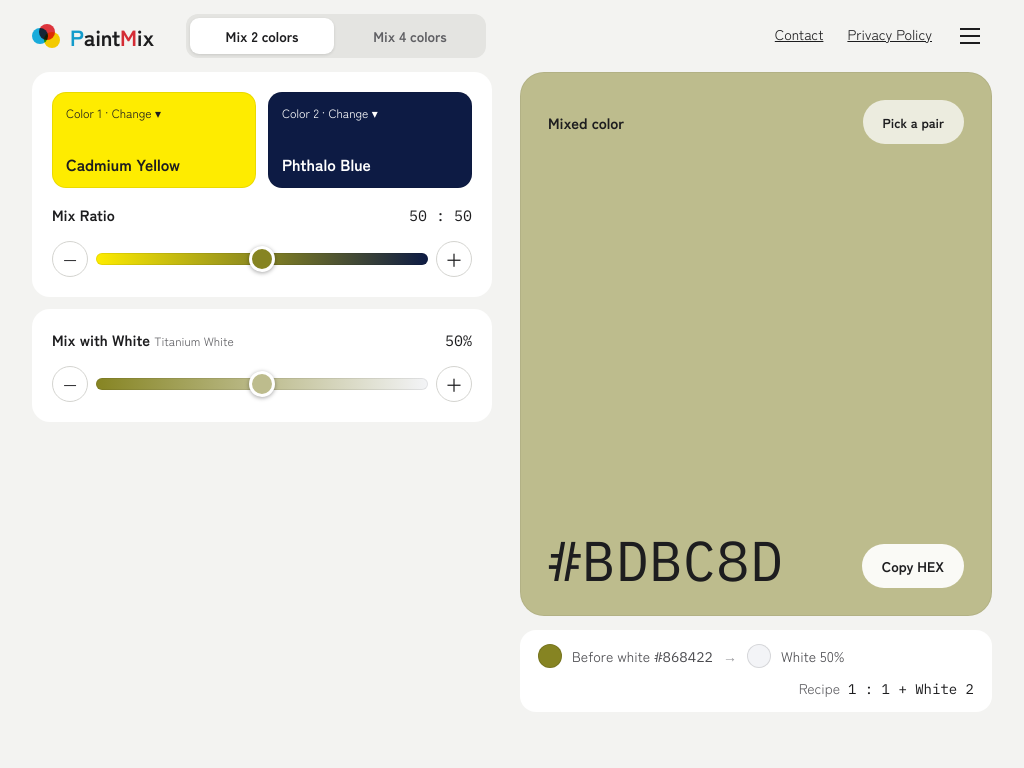
dialogs and menus › closes dialogs with Escape and returns focus to the opener
The image size is (1024, 768).
Click the button with aria-label "Select Color 1:".
click(154, 140)  # box [52,92,256,188]
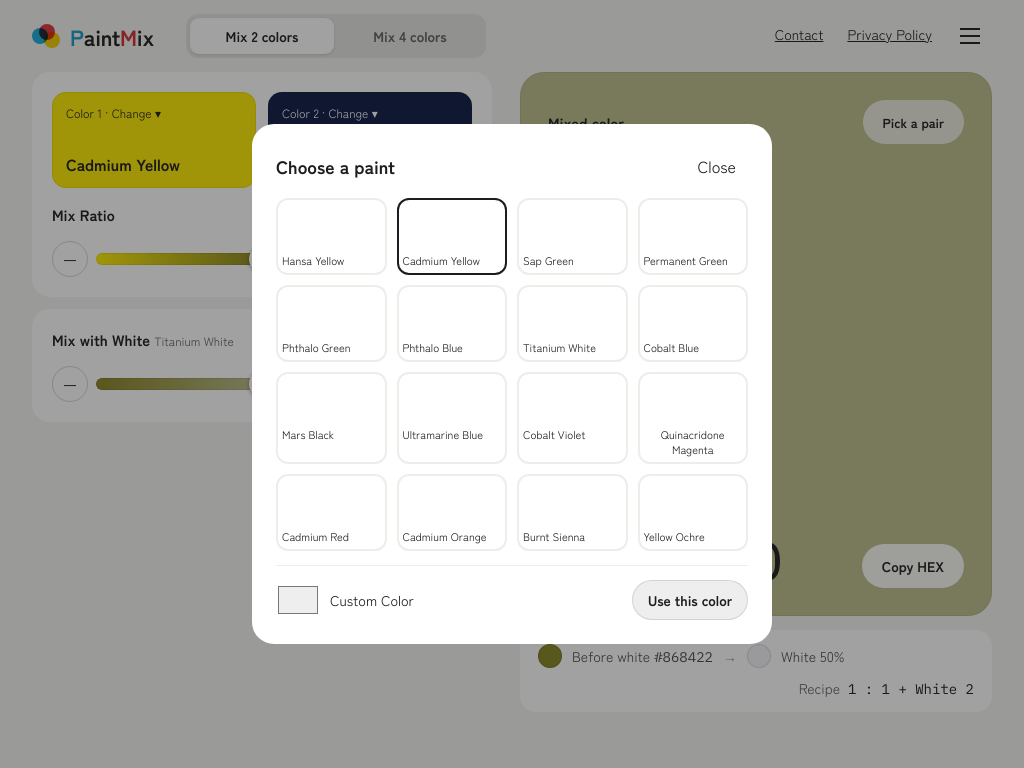
Press Escape
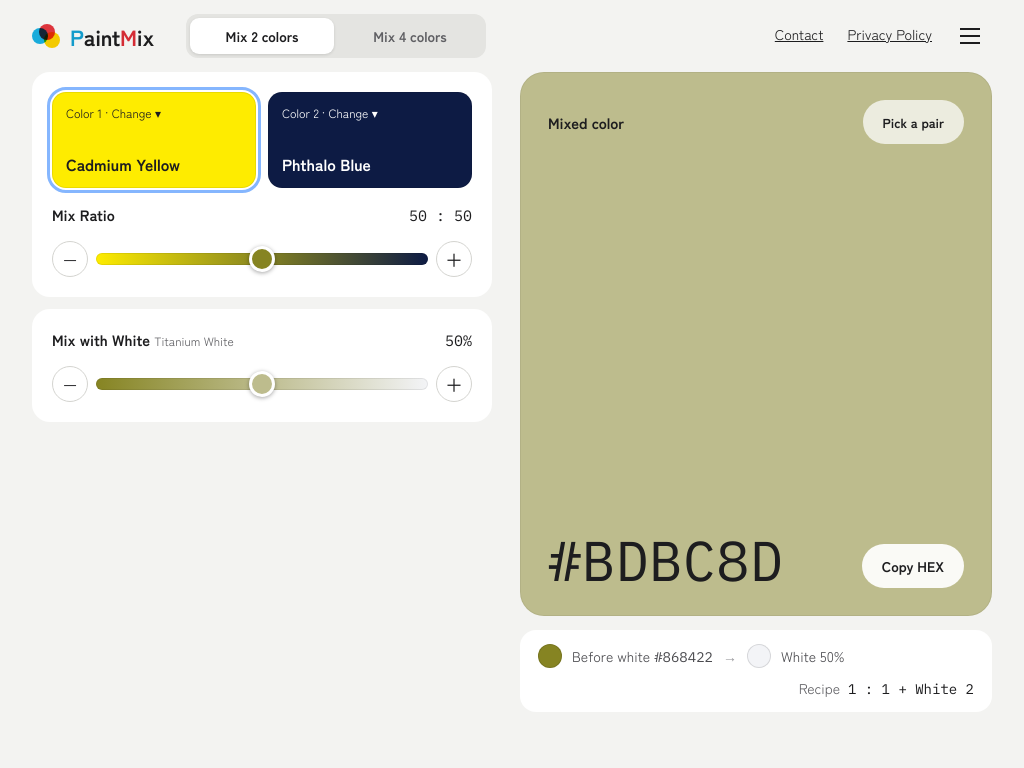
Now the dialog is gone
